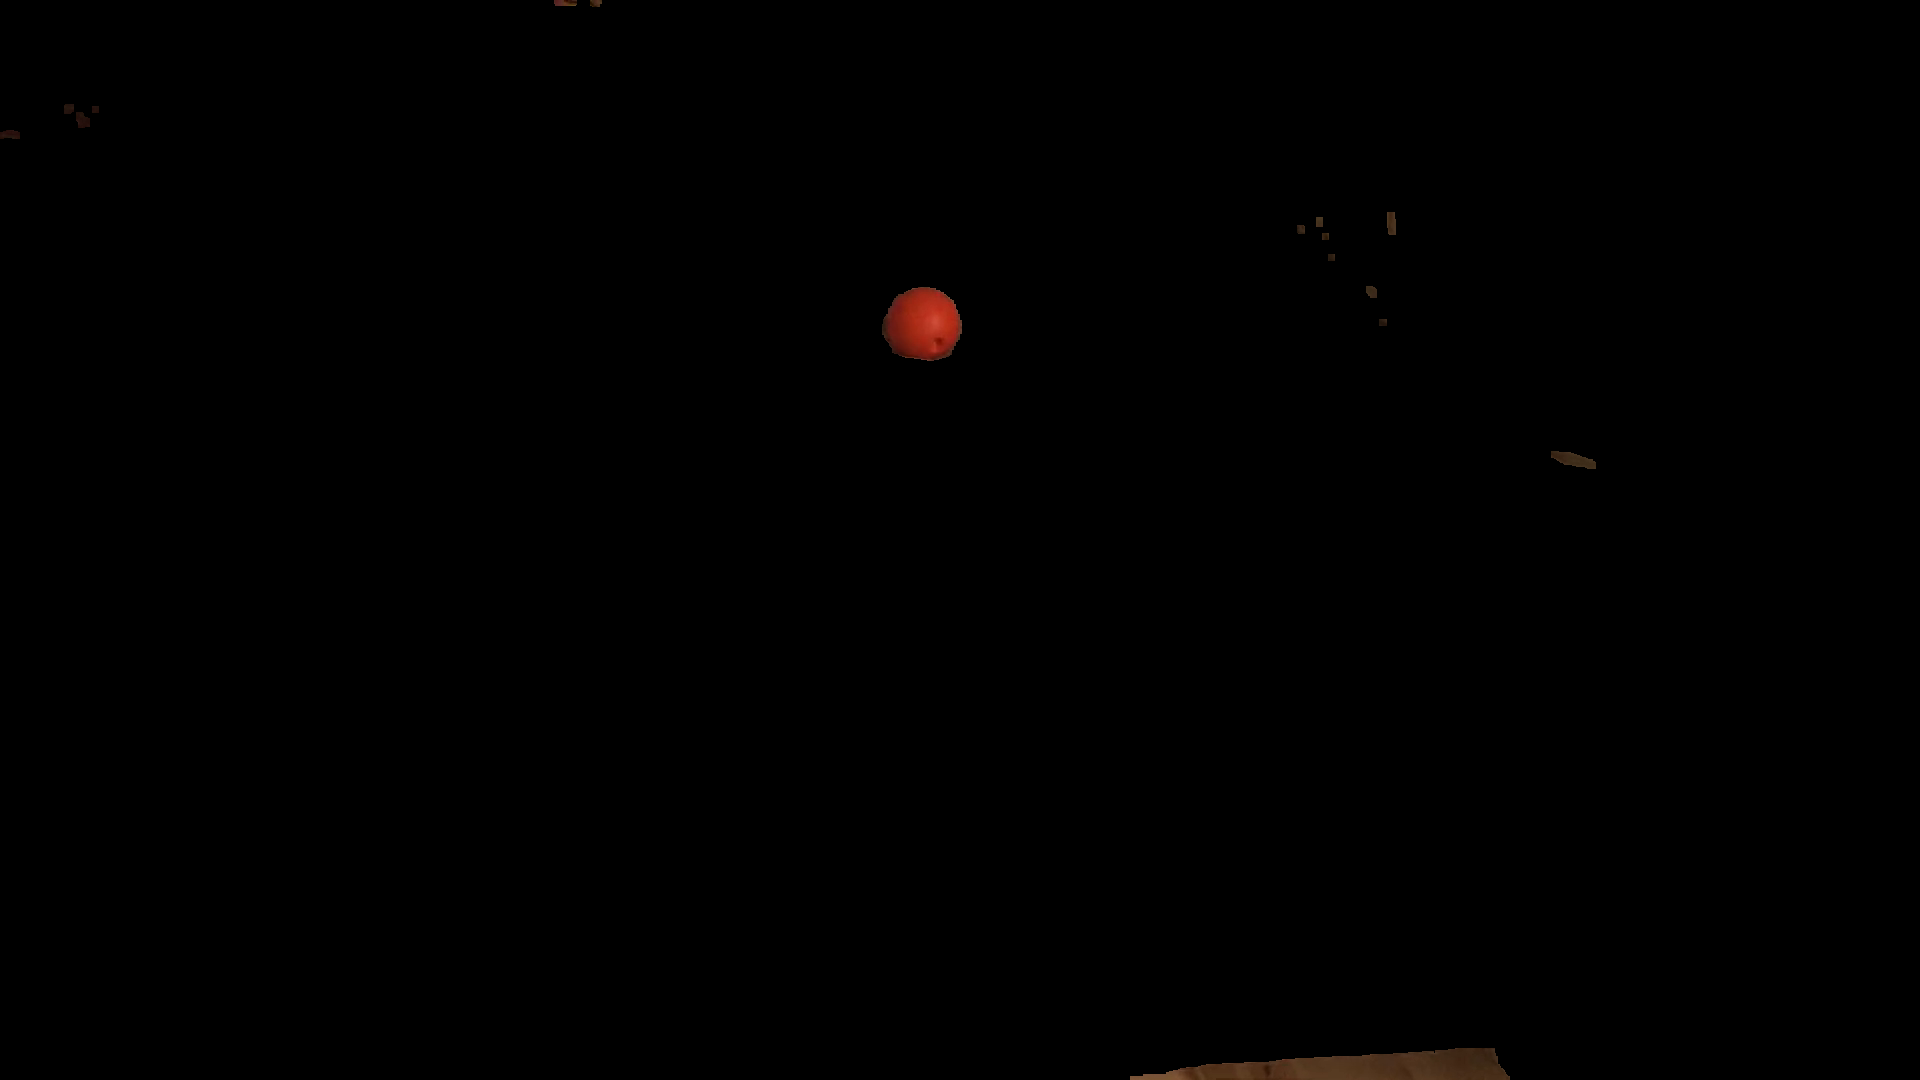Ball: (884, 287, 960, 360)
